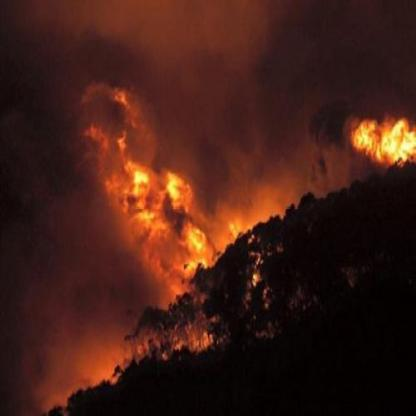fire: (78, 63, 234, 344), (310, 99, 412, 174)
smoke: (156, 22, 314, 194)
